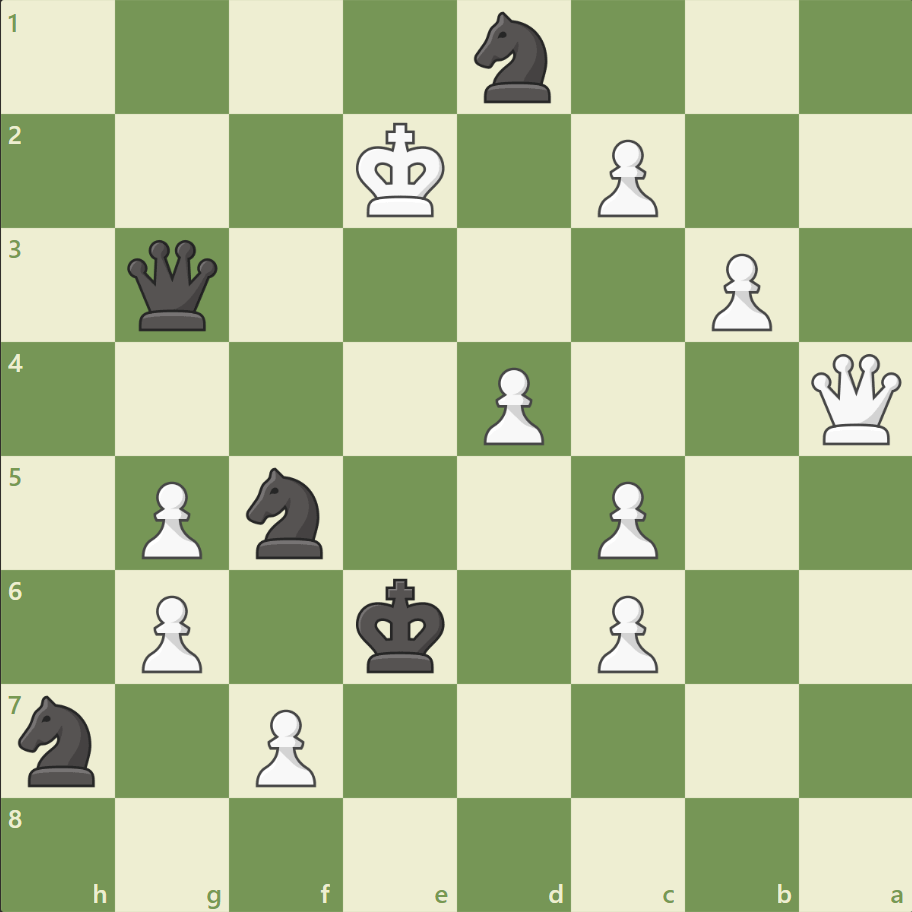K: (351, 117, 451, 225)
P: (247, 700, 322, 791), (133, 586, 208, 677), (133, 473, 208, 564), (474, 359, 549, 450), (701, 246, 776, 337), (588, 586, 662, 677), (588, 473, 662, 564), (588, 132, 662, 223)
Q: (805, 349, 904, 449)
k: (351, 571, 451, 679)
n: (11, 688, 108, 791), (238, 461, 335, 564), (465, 7, 562, 110)
q: (124, 236, 223, 335)
